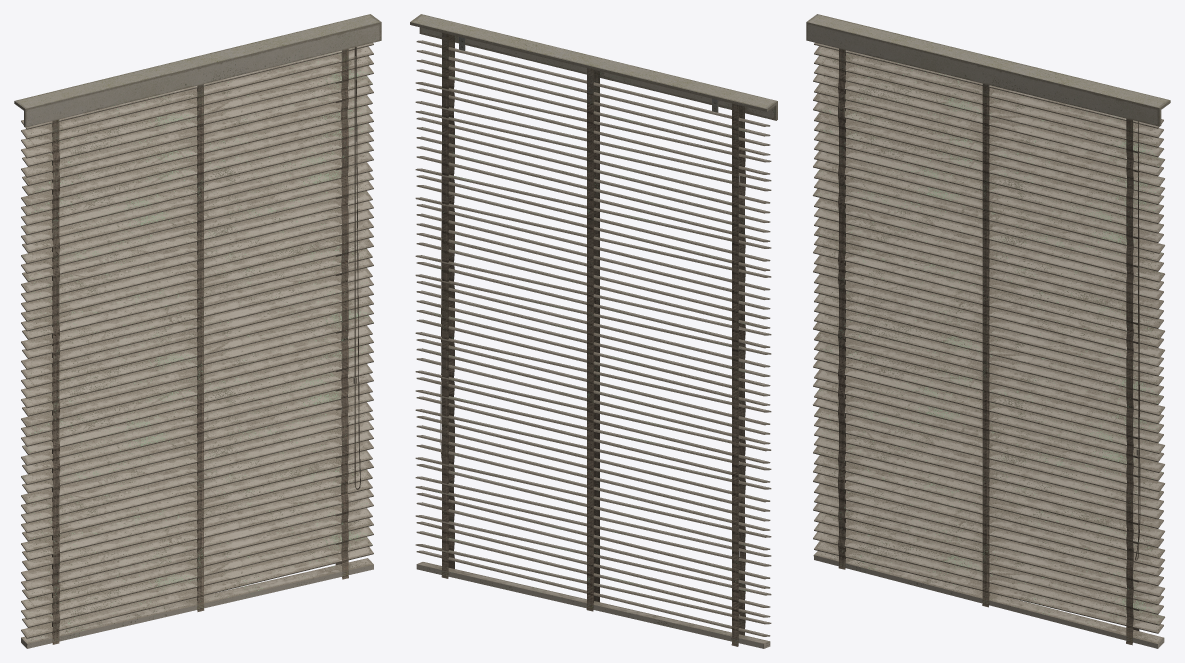
The model's file is JalousieA.fbx.
The picture shows the model from 3 angles, left to right: view 1: azimuth 30°, elevation 25°; view 2: azimuth 150°, elevation 25°; view 3: azimuth 330°, elevation 25°; orthographic projection.
Visible parts, largest first — view 1: JalousieA_LOD0; view 2: JalousieA_LOD0; view 3: JalousieA_LOD0.
Part boxes in pixels (bbox=[...]): JalousieA_LOD0: bbox=[14, 14, 381, 648]; JalousieA_LOD0: bbox=[410, 14, 777, 648]; JalousieA_LOD0: bbox=[806, 14, 1170, 648].
Size of what is drawn, in the model's own units: 130 by 192 by 7.85.
